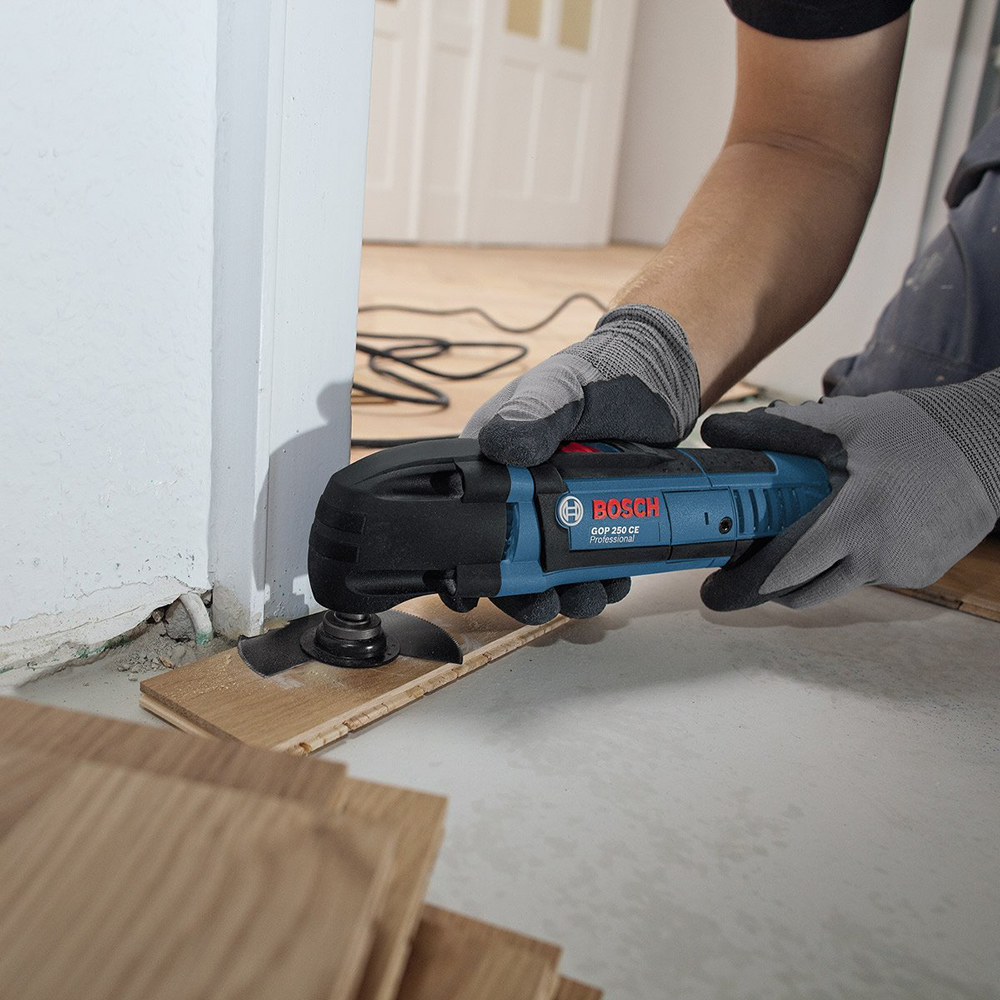Bosch: (585, 493, 676, 524)
